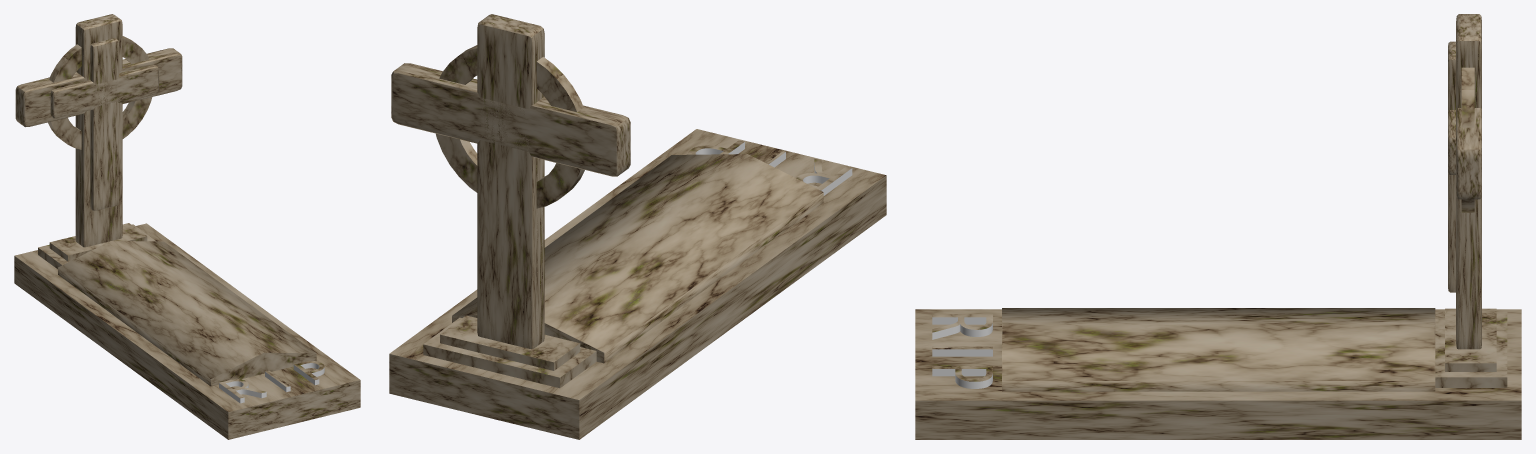
File: tomb.fbx
3 views of the same model, side by side, from view 1: azimuth 30°, elevation 25°; view 2: azimuth 150°, elevation 25°; view 3: azimuth 270°, elevation 25° (orthographic). The views are drawn at different scales.
Visible parts, largest first — view 1: Cubo_3, Cubo_2, Conector_1, Conector, Tubo, Cubo, Cubo_1, R; view 2: Cubo_3, Cubo_2, Conector_1, Tubo, Cubo_1, Cubo; view 3: Cubo_3, Cubo_2, Conector_1, Cubo_1, Cubo, Conector, Tubo, R, P.
Boxes of the visible parts, x1,y1,x2,y2 form: Cubo_3: (58,241,316,386); Cubo_2: (14,223,360,439); Conector_1: (15,14,182,247); Conector: (50,38,158,211); Tubo: (48,36,152,149); Cubo: (49,223,147,261); Cubo_1: (38,224,155,269); R: (219,381,266,403); Cubo_3: (452,154,823,363); Cubo_2: (389,129,886,439); Conector_1: (391,14,630,349); Tubo: (436,45,584,208); Cubo_1: (423,317,596,388); Cubo: (440,315,580,370); Cubo_3: (1002,308,1435,391); Cubo_2: (915,309,1521,439); Conector_1: (1456,14,1481,349); Cubo_1: (1435,311,1507,387); Cubo: (1445,308,1496,371); Conector: (1448,41,1455,292); Tubo: (1461,67,1474,212); R: (932,317,992,339); P: (932,369,992,388).
Bounding box in the file's own units: 300 × 469 × 700.
Materials: 2 (2 with a texture image).
